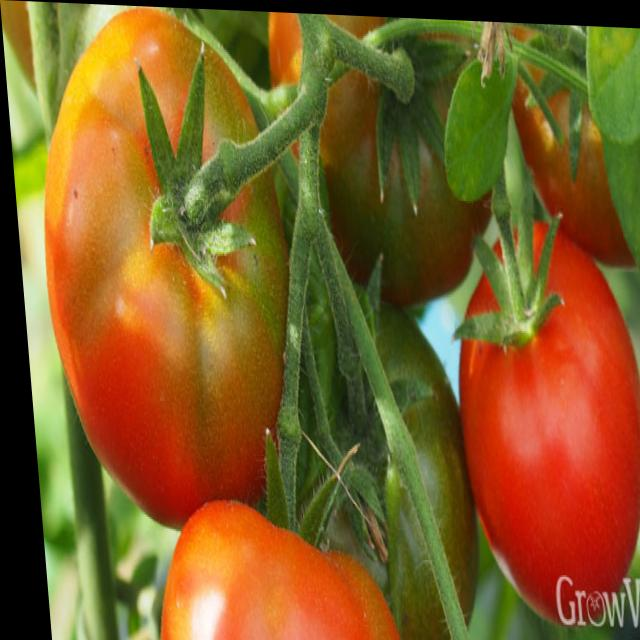kirmizi: (439, 196, 640, 631)
